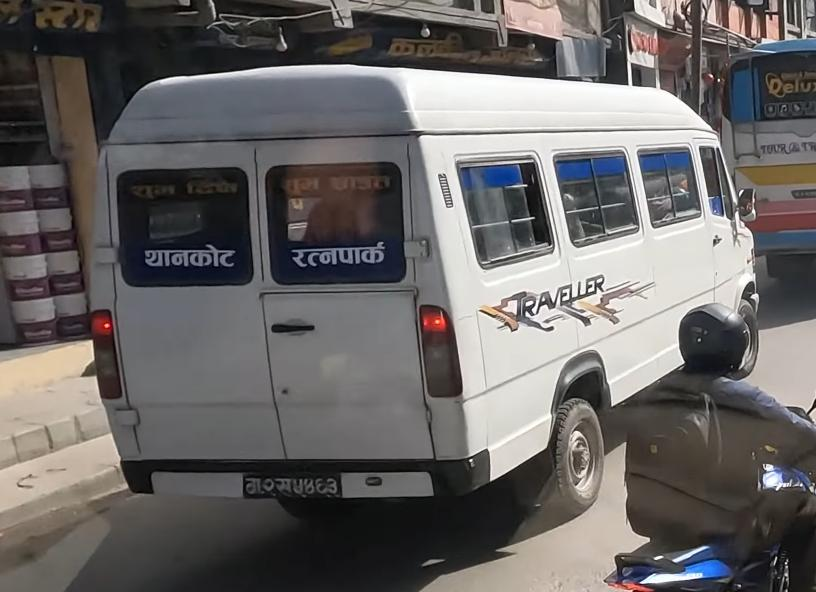bus: (718, 36, 816, 278)
micro_bus: (79, 57, 767, 534)
